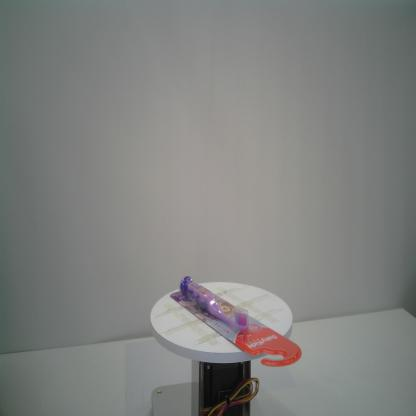Personal Hygiene: (169, 275, 302, 368)
